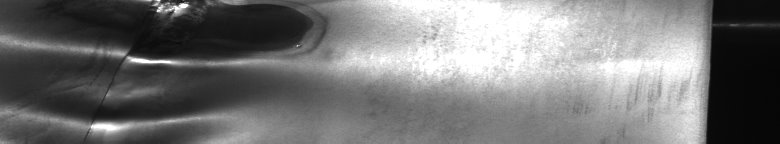ke: (4, 4, 327, 136)
